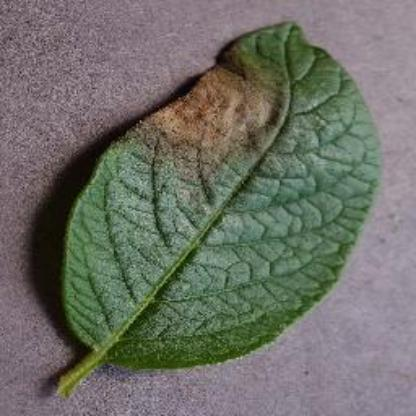Late-Blight: (19, 15, 391, 399)
